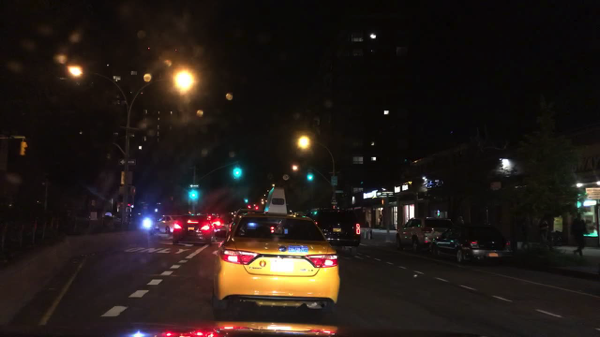car: (214, 188, 338, 318), (428, 225, 513, 263), (305, 207, 360, 257), (395, 216, 451, 254), (173, 214, 215, 243), (230, 207, 256, 233), (155, 216, 178, 235), (141, 218, 160, 231), (214, 218, 226, 236)
person: (568, 214, 589, 256), (538, 217, 549, 247), (520, 216, 529, 249), (458, 215, 463, 224)
traffic light: (20, 142, 28, 155), (235, 166, 240, 176), (308, 171, 313, 181), (118, 187, 124, 195), (243, 195, 248, 202), (192, 191, 196, 199), (130, 187, 134, 195)
traffic sign: (120, 172, 134, 185), (119, 160, 136, 165), (331, 176, 338, 186), (189, 184, 200, 188), (331, 199, 337, 205), (334, 191, 344, 194)
